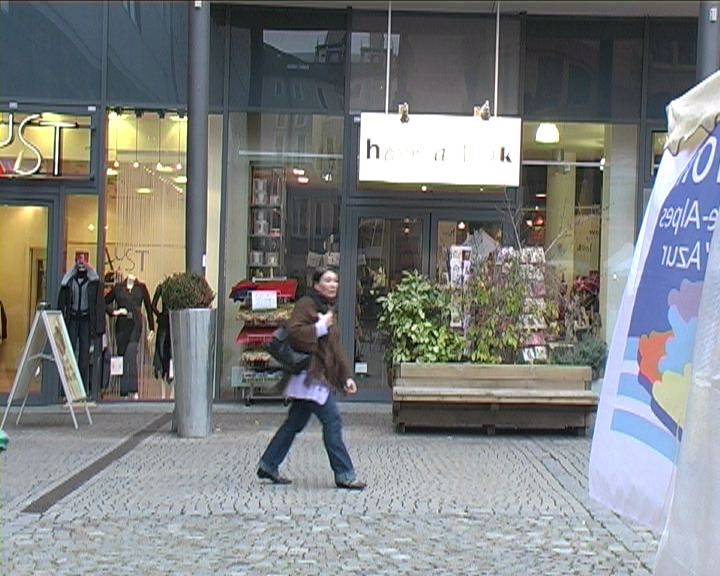deflection: (288, 261, 352, 368)
